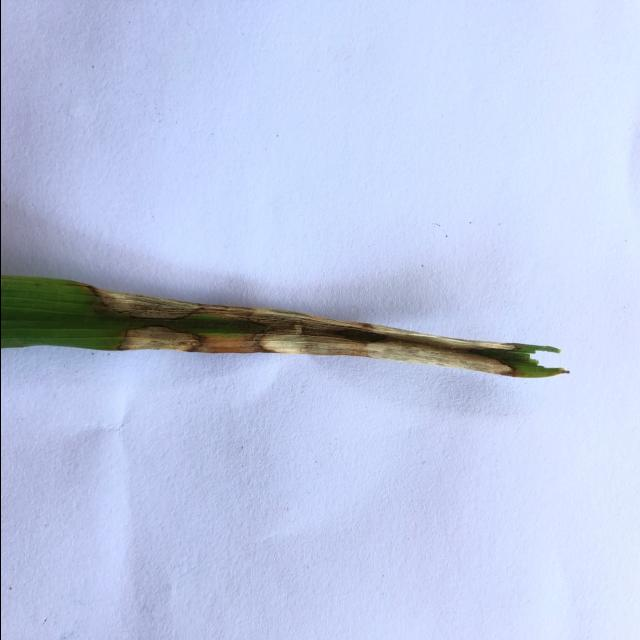Leaf Blight: (88, 284, 525, 377)
